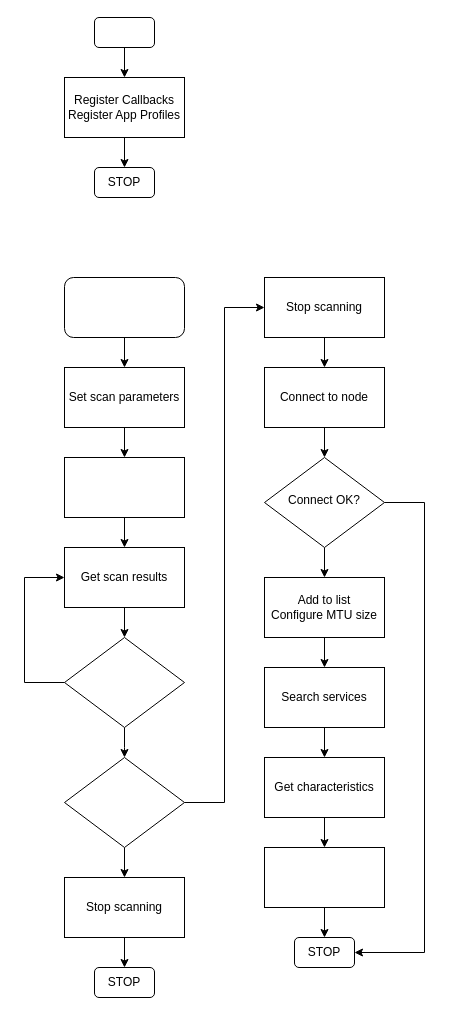
This 450x1015 diagram has some shape labels left out. Each missing label, with the centre of its shape:
Check adv_data and rsp_data?: the point at 124,682
Check list?: the point at 124,802
Register for notifications: the point at 324,877
Scan event (MQTT, Button): the point at 124,307
START: the point at 124,32
Start scanning: the point at 124,487
